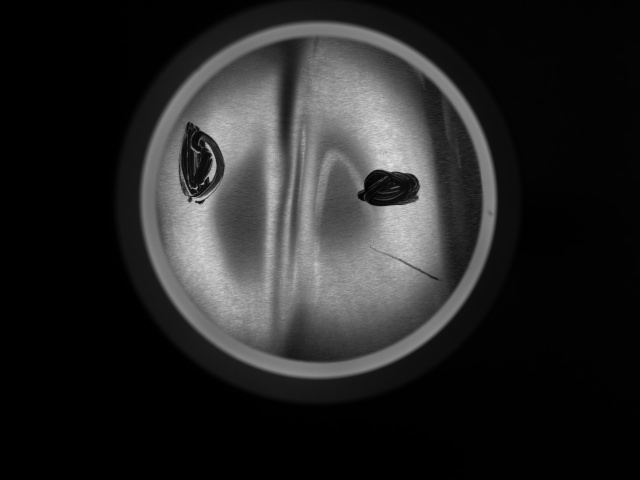ca_shang: (363, 243, 446, 282)
zang_wu: (175, 120, 229, 205), (354, 167, 422, 210)
zhe_zhou: (202, 66, 438, 335)
